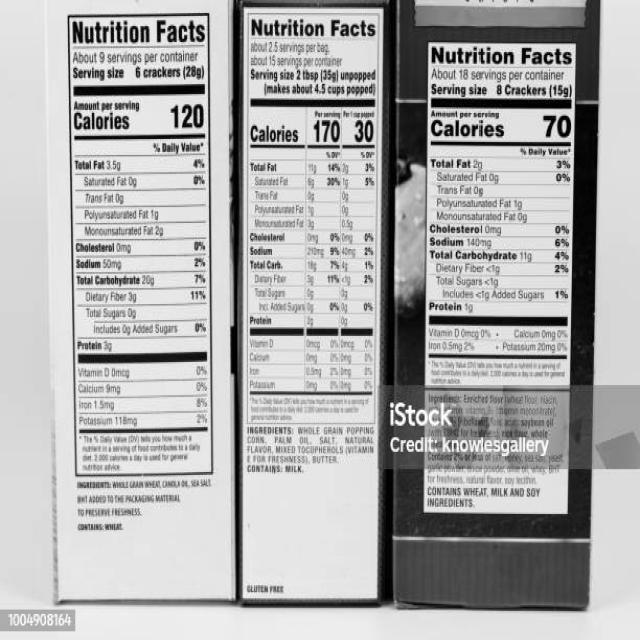Nutrition Label: (63, 10, 218, 481), (241, 5, 380, 429), (428, 43, 577, 396)
